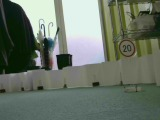speed_20: (116, 38, 136, 59)
